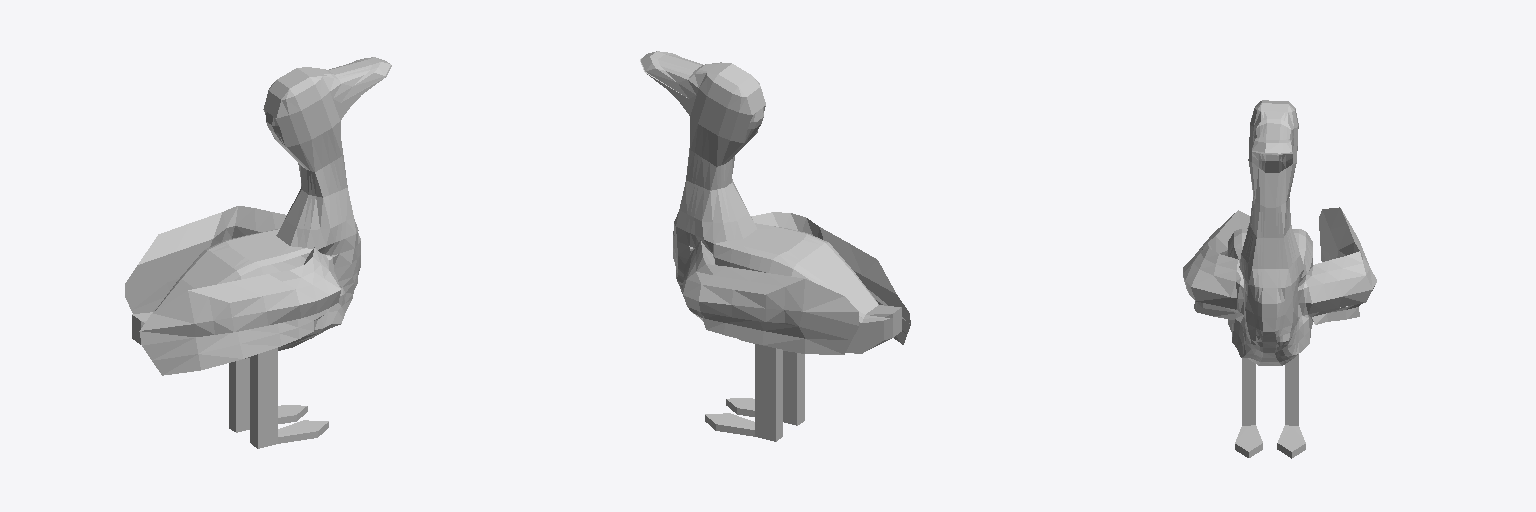
File: goo_0.obj
3 views of the same model, side by side, from view 1: azimuth 30°, elevation 25°; view 2: azimuth 150°, elevation 25°; view 3: azimuth 270°, elevation 25° (orthographic).
Visible parts, largest first — view 1: Cube; view 2: Cube; view 3: Cube.
Part boxes in pixels (x1,y1,x2,y2): Cube: (125,57,391,448); Cube: (640,51,910,441); Cube: (1183,100,1376,458).
Size of the model in its own units: 14.69 by 19 by 9.61.